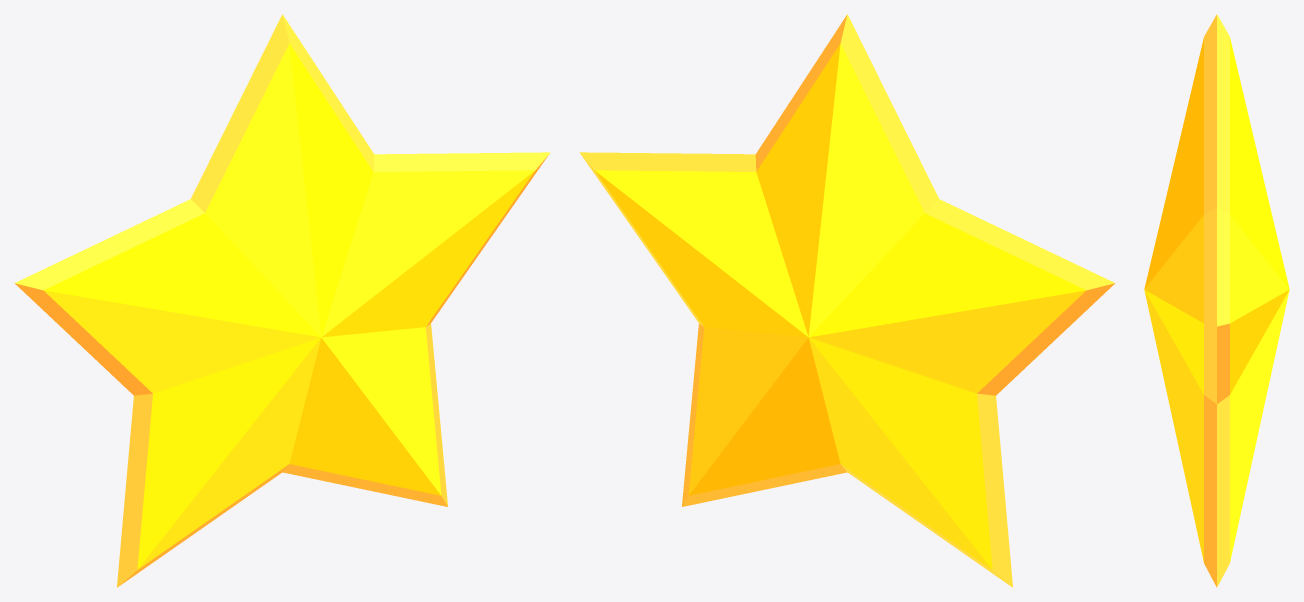
File: Star.glb
The picture shows the model from 3 angles, left to right: view 1: azimuth 30°, elevation 25°; view 2: azimuth 150°, elevation 25°; view 3: azimuth 270°, elevation 25°; orthographic projection. The views are drawn at different scales.
Parts seen in each view (by area): view 1: Circle; view 2: Circle; view 3: Circle.
Part boxes in pixels (x1=…): Circle: x1=14, y1=14, x2=550, y2=587; Circle: x1=579, y1=14, x2=1115, y2=587; Circle: x1=1144, y1=14, x2=1289, y2=587.
Size of the model in its own units: 1.7 by 1.62 by 0.4284.
Materials: 1 (1 with a texture image).
